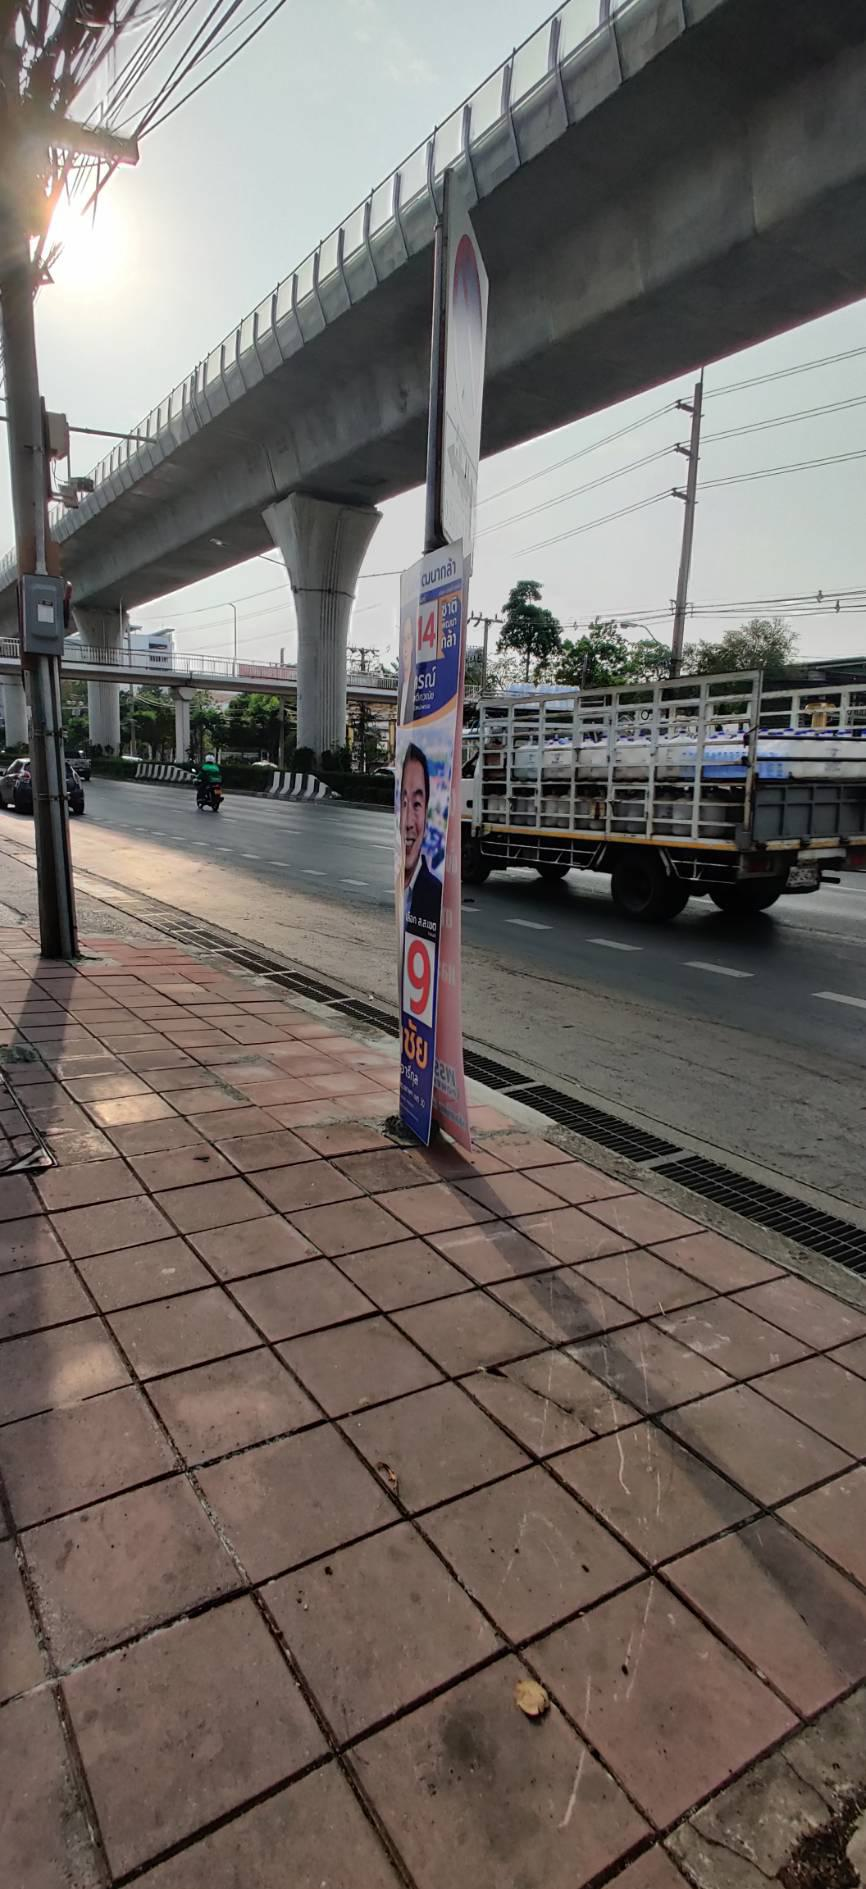Banner: (382, 532, 467, 1128)
